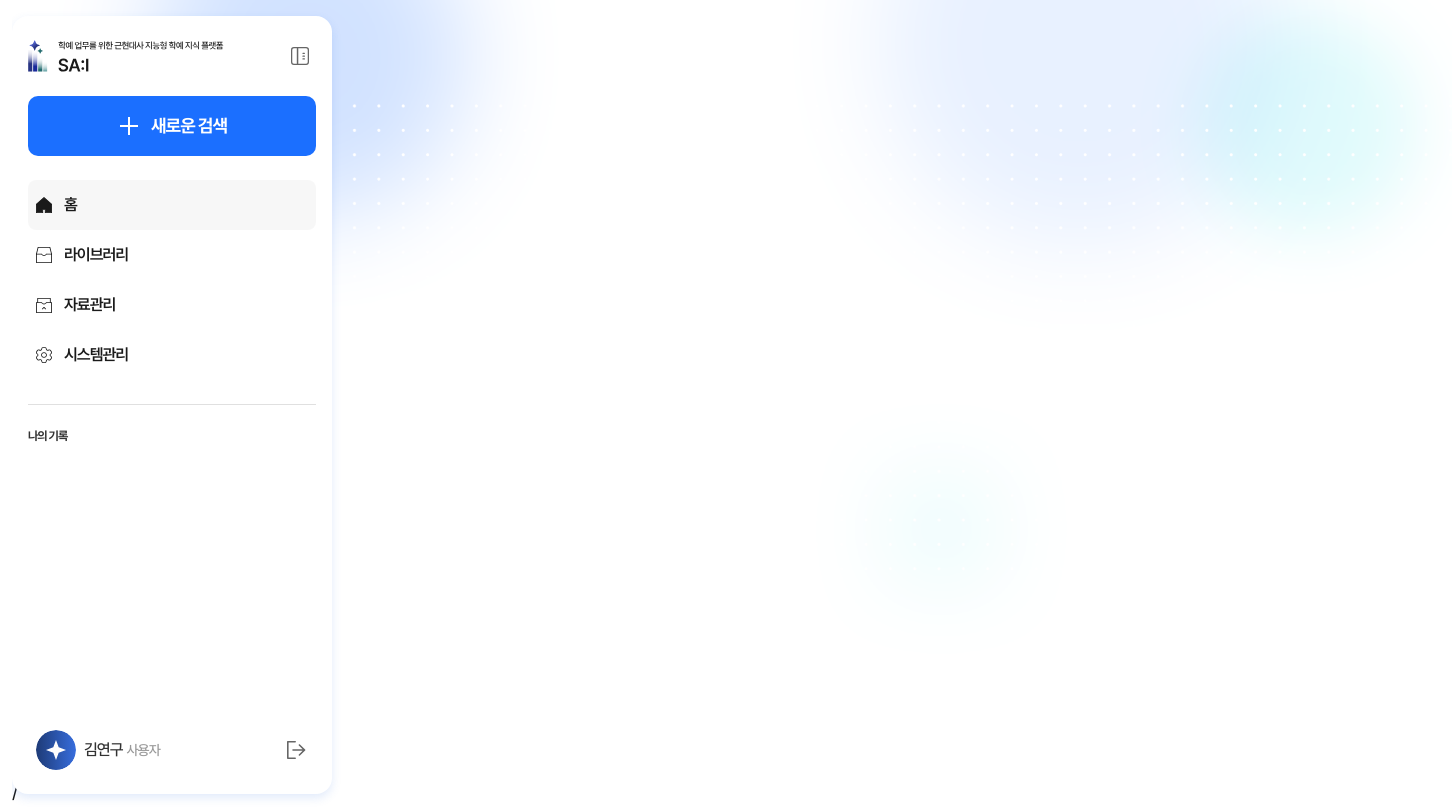
Scenario: LNB: logout()이 실패(reject)해도 /login으로 이동한다(unhandled rejection 없이)
The image size is (1452, 810).
Click the button named "로그아웃".
click(296, 750)  # box [284,738,308,762]
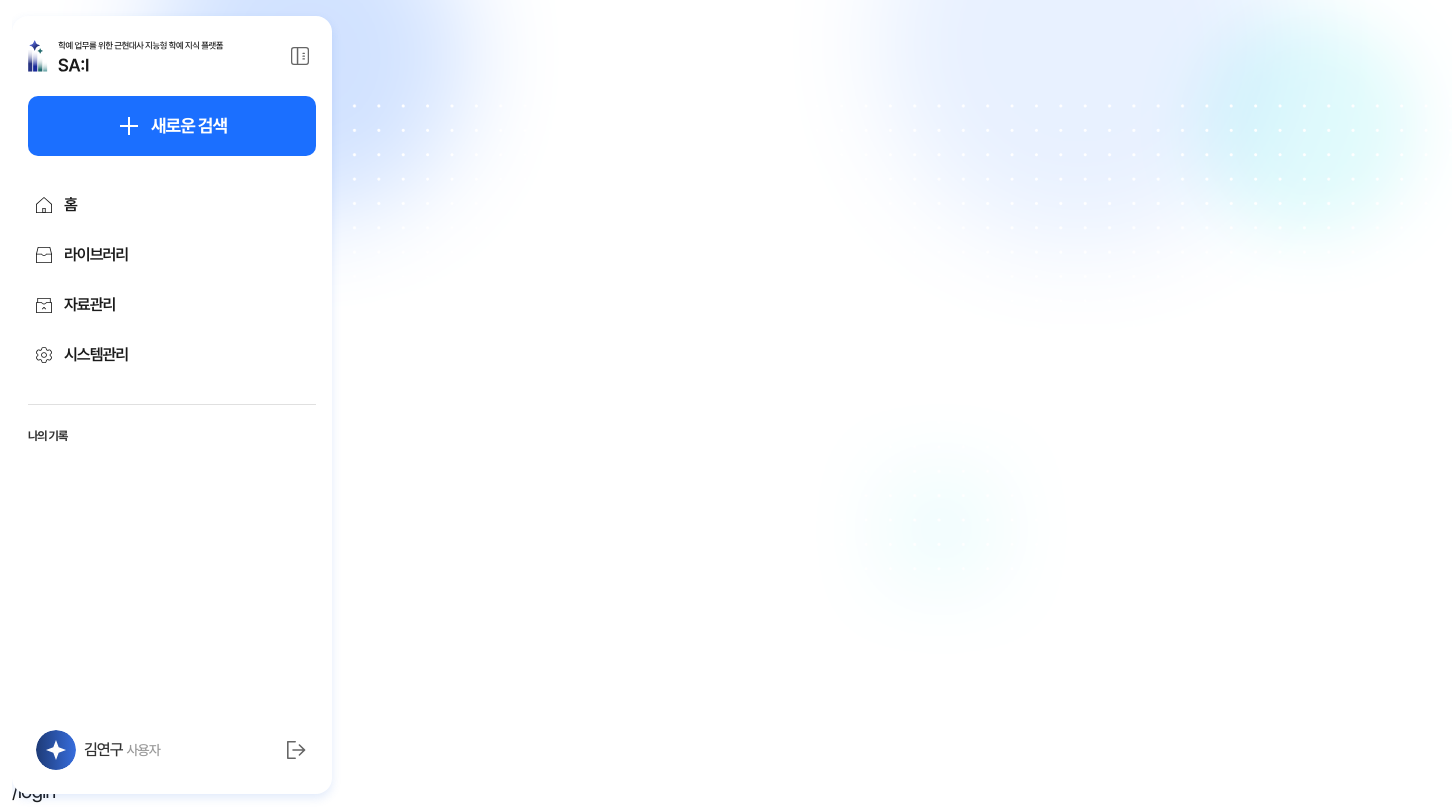
Check: the text with test id "probe-path" reads "/login", box [12,779,56,803]
